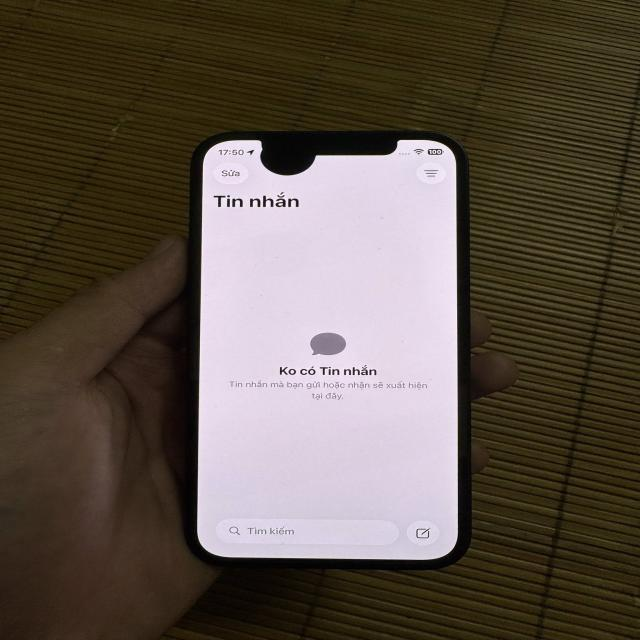screen_defect: (239, 126, 340, 184)
